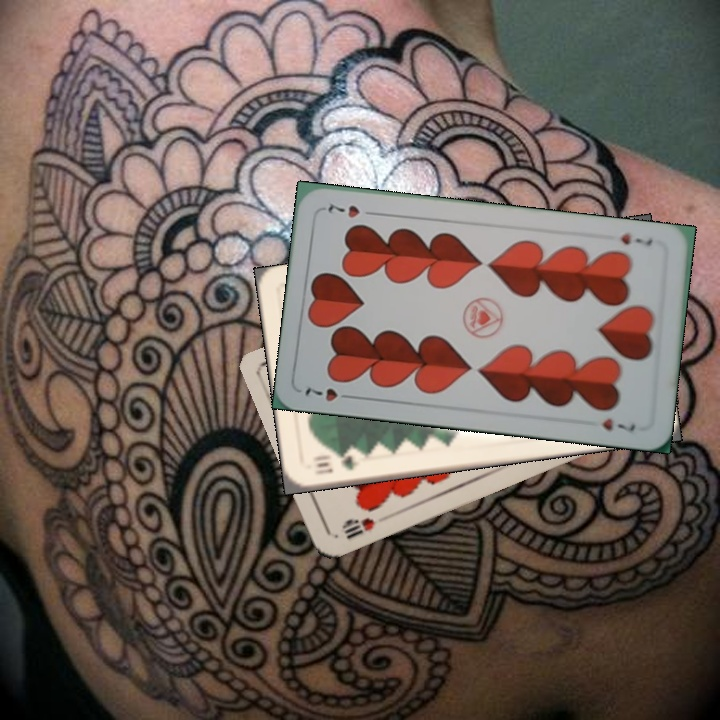G10: (310, 451, 362, 477)
H10: (337, 513, 377, 542)
H7: (301, 383, 358, 404), (616, 230, 655, 250)
